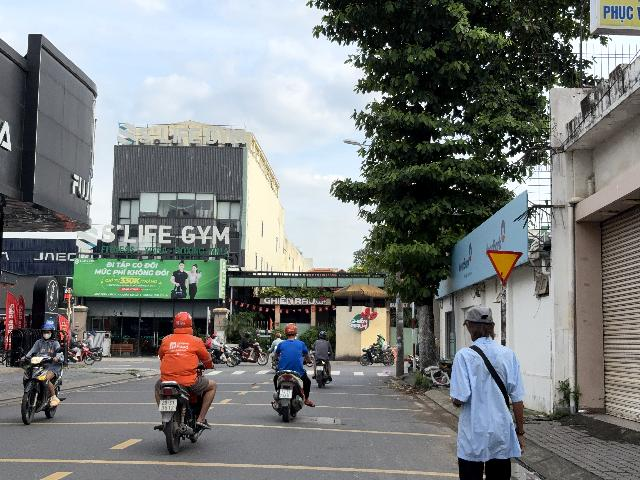giao-nhau-voi-duong-uu-tien: (485, 250, 523, 283)
